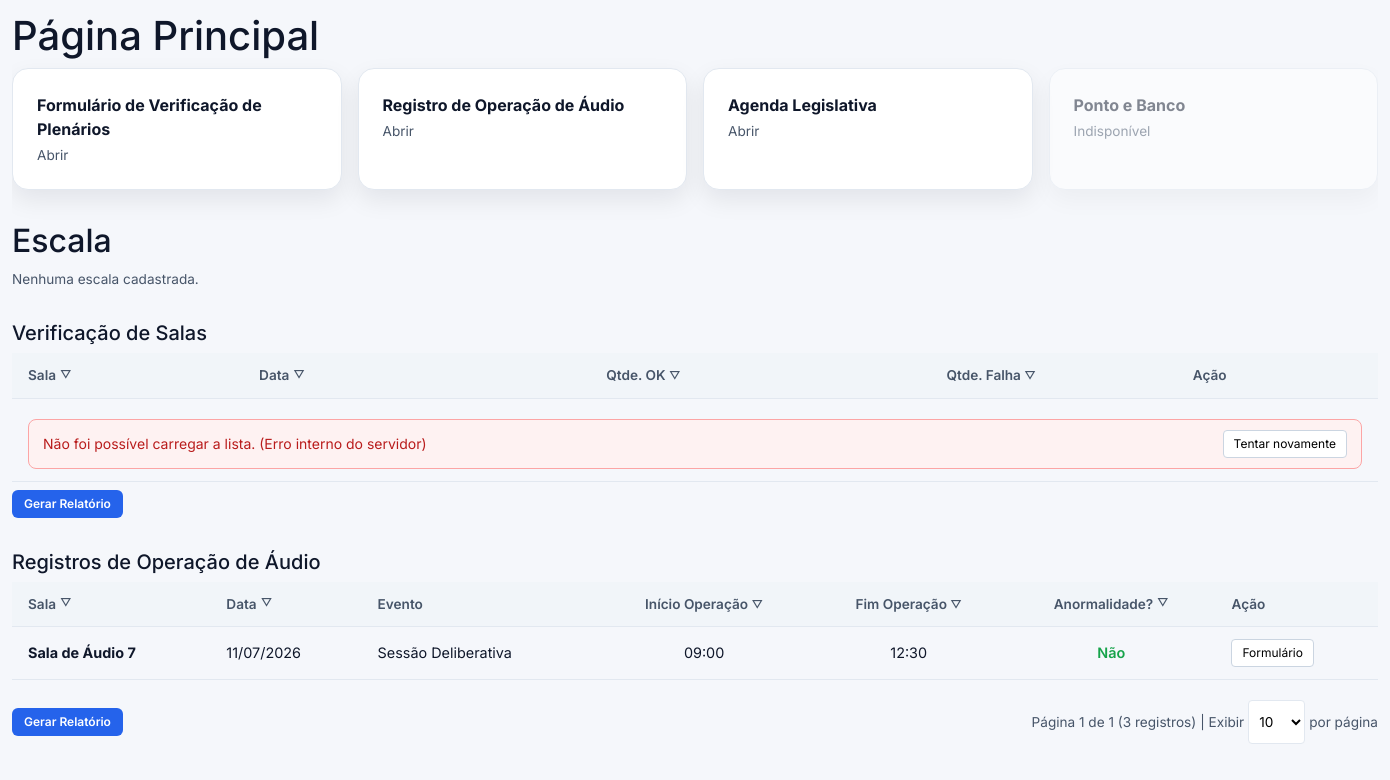
Test: HomeComponent (canal de erro das listagens) › retry com sucesso: a caixa some e as linhas aparecem
Step 1. Click the button "Tentar novamente" → [1285, 444], box [1223, 430, 1347, 458]
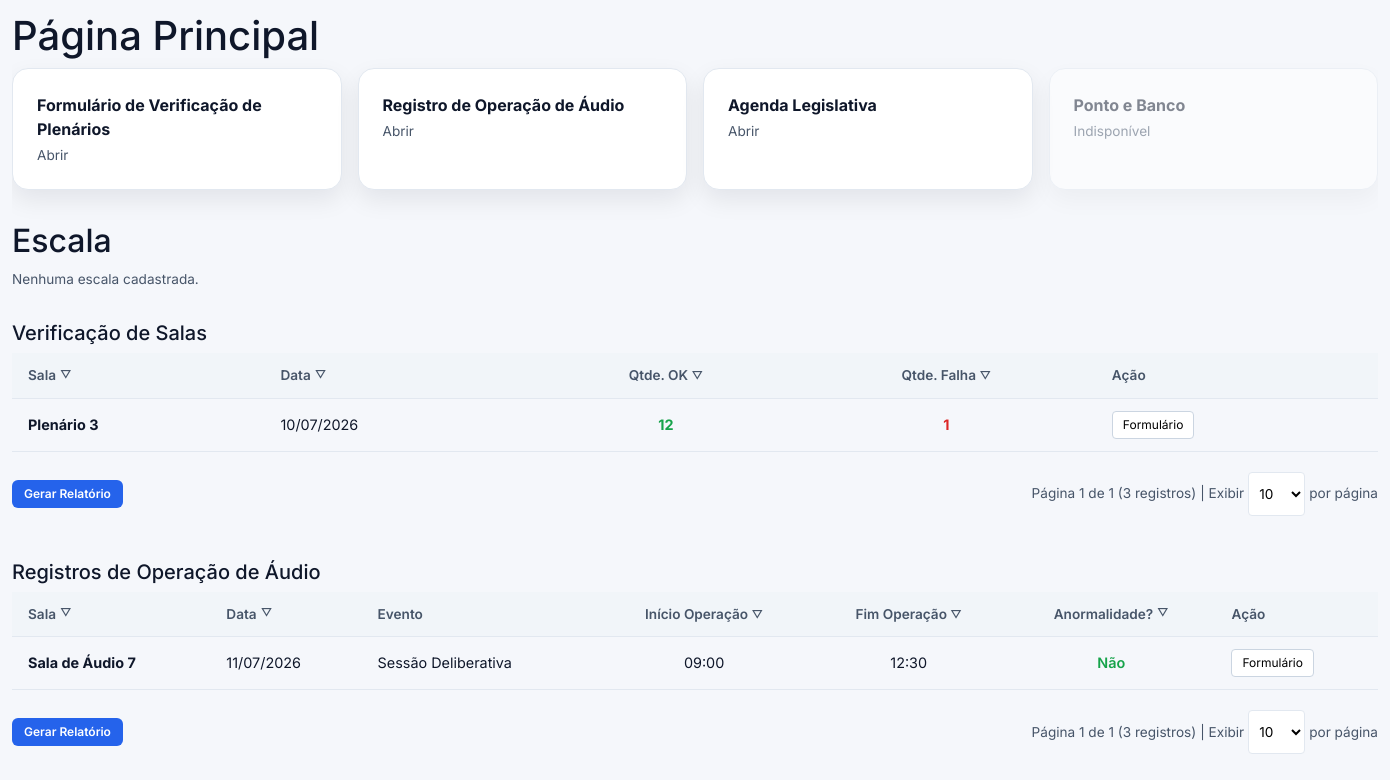
Expected: the element that starts with "Verificação de Salas" shows "Plenário 3", [28, 416, 98, 433]
